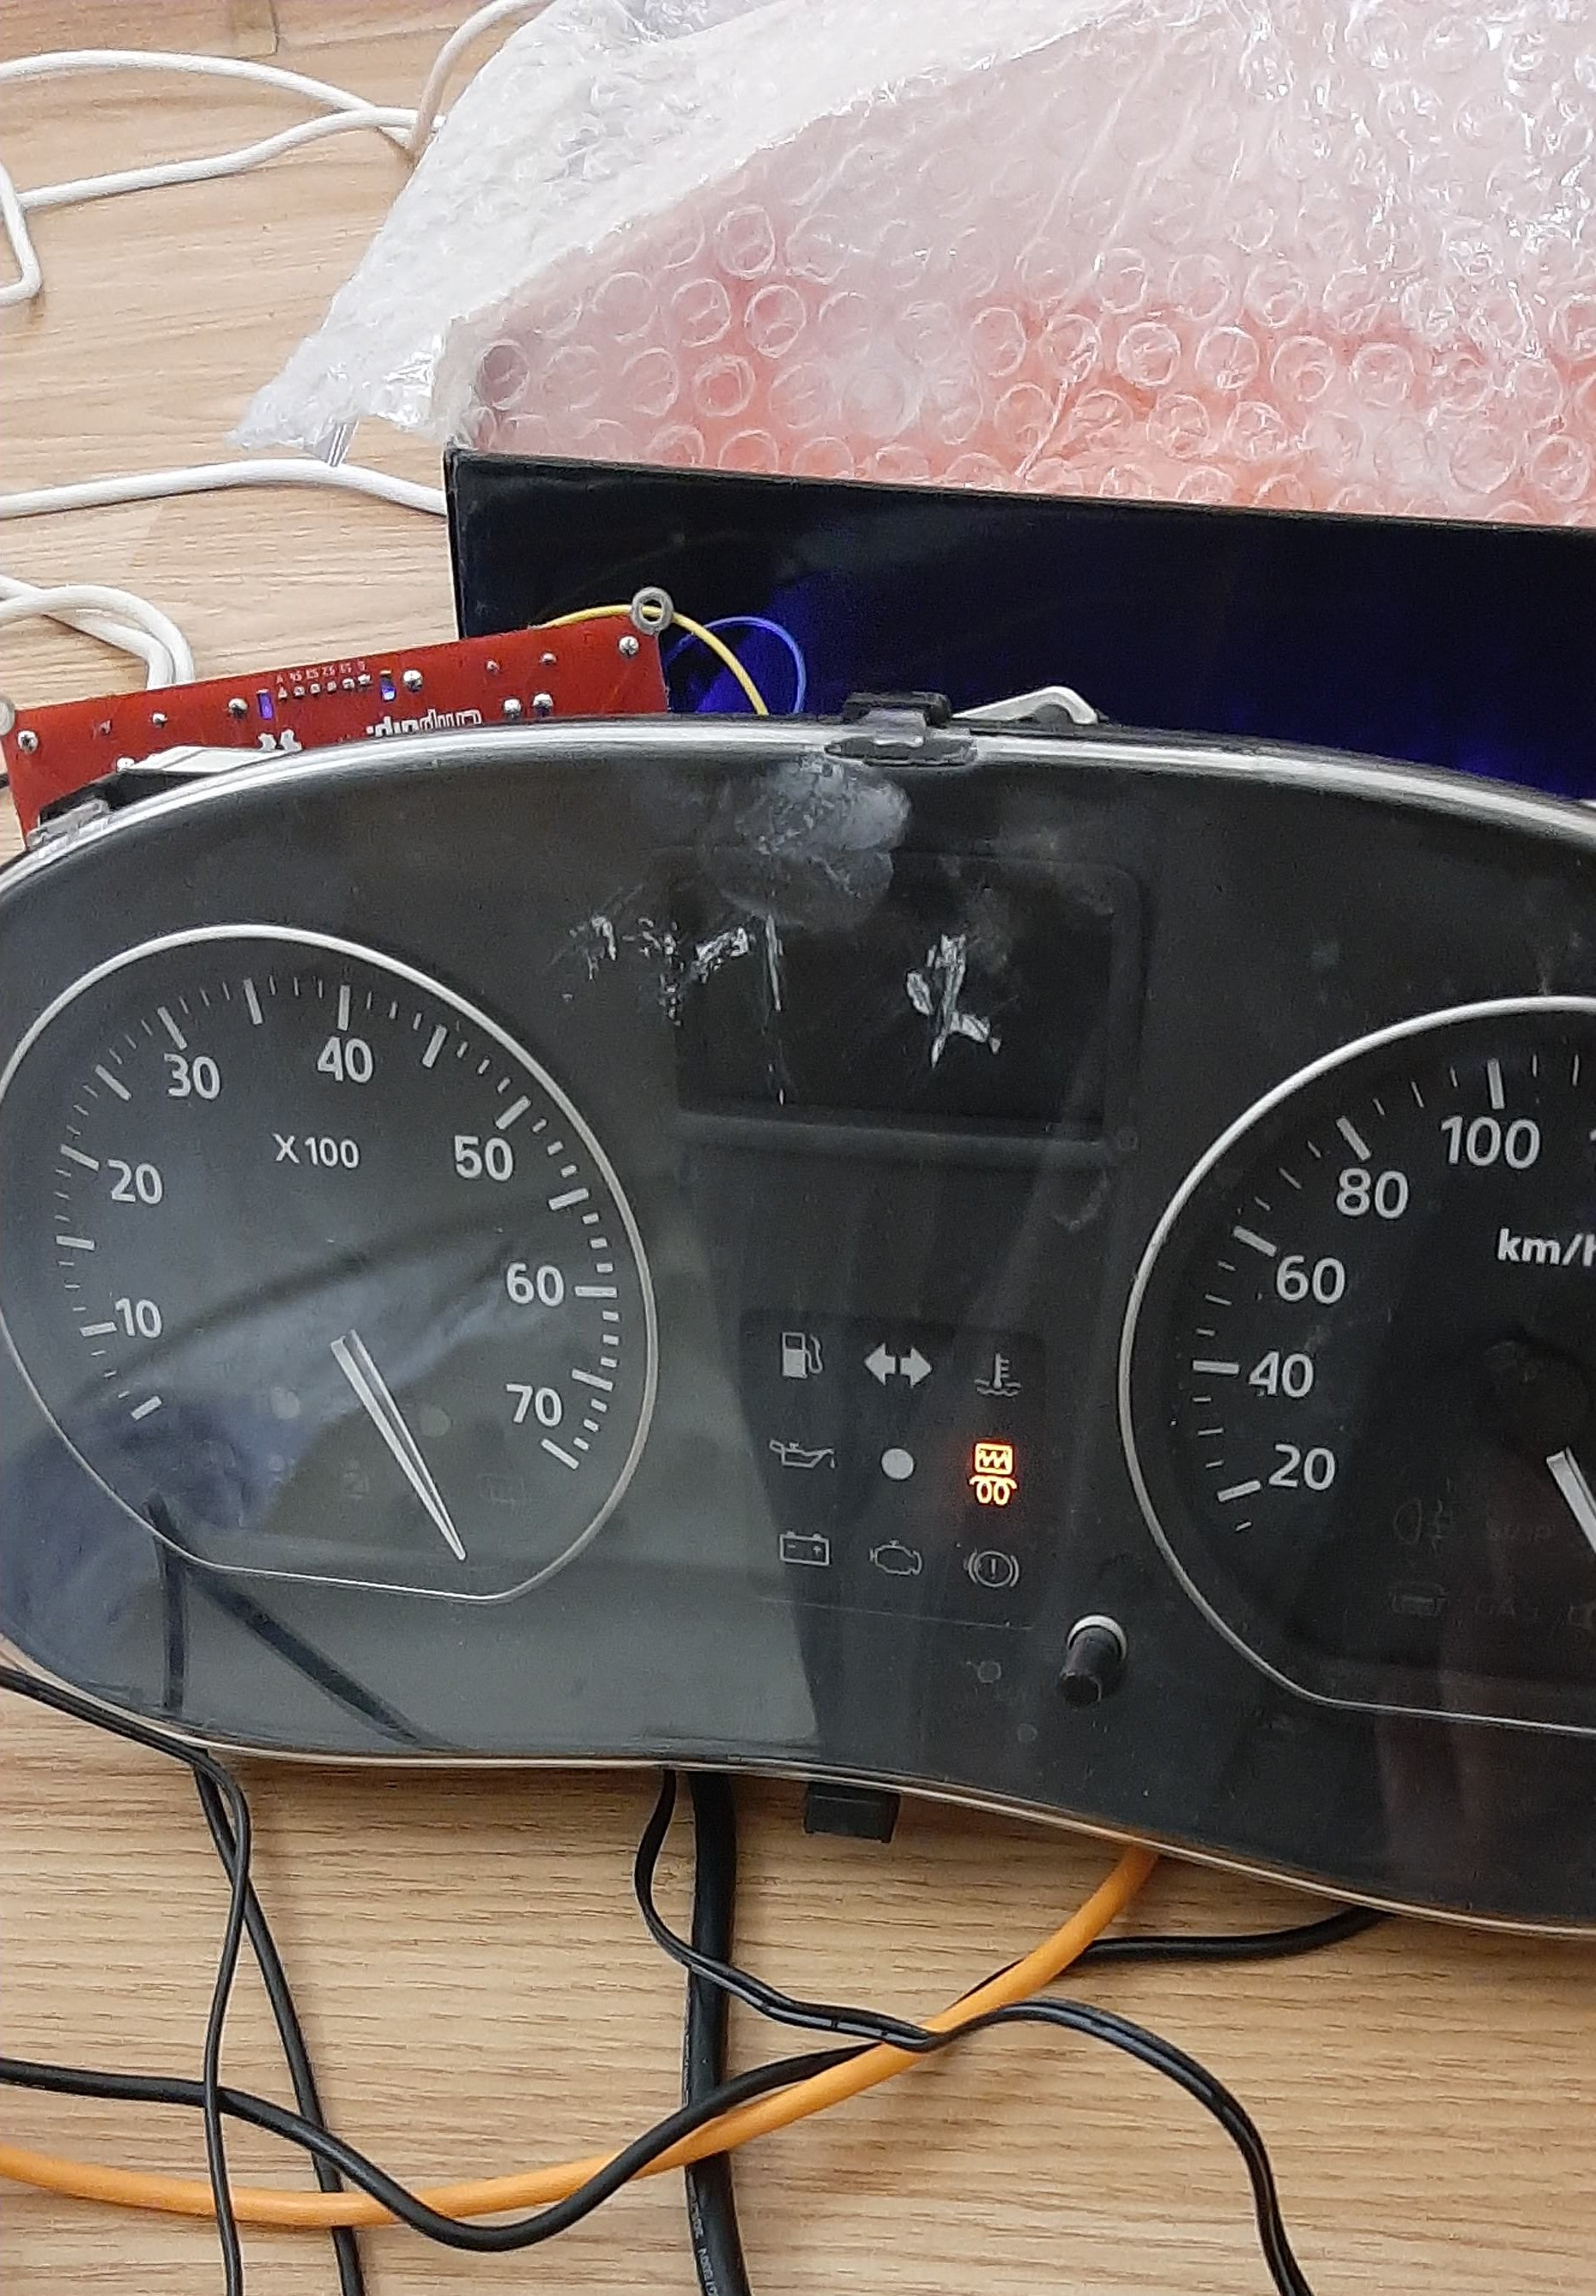diesel25: (965, 1439, 1020, 1509)
